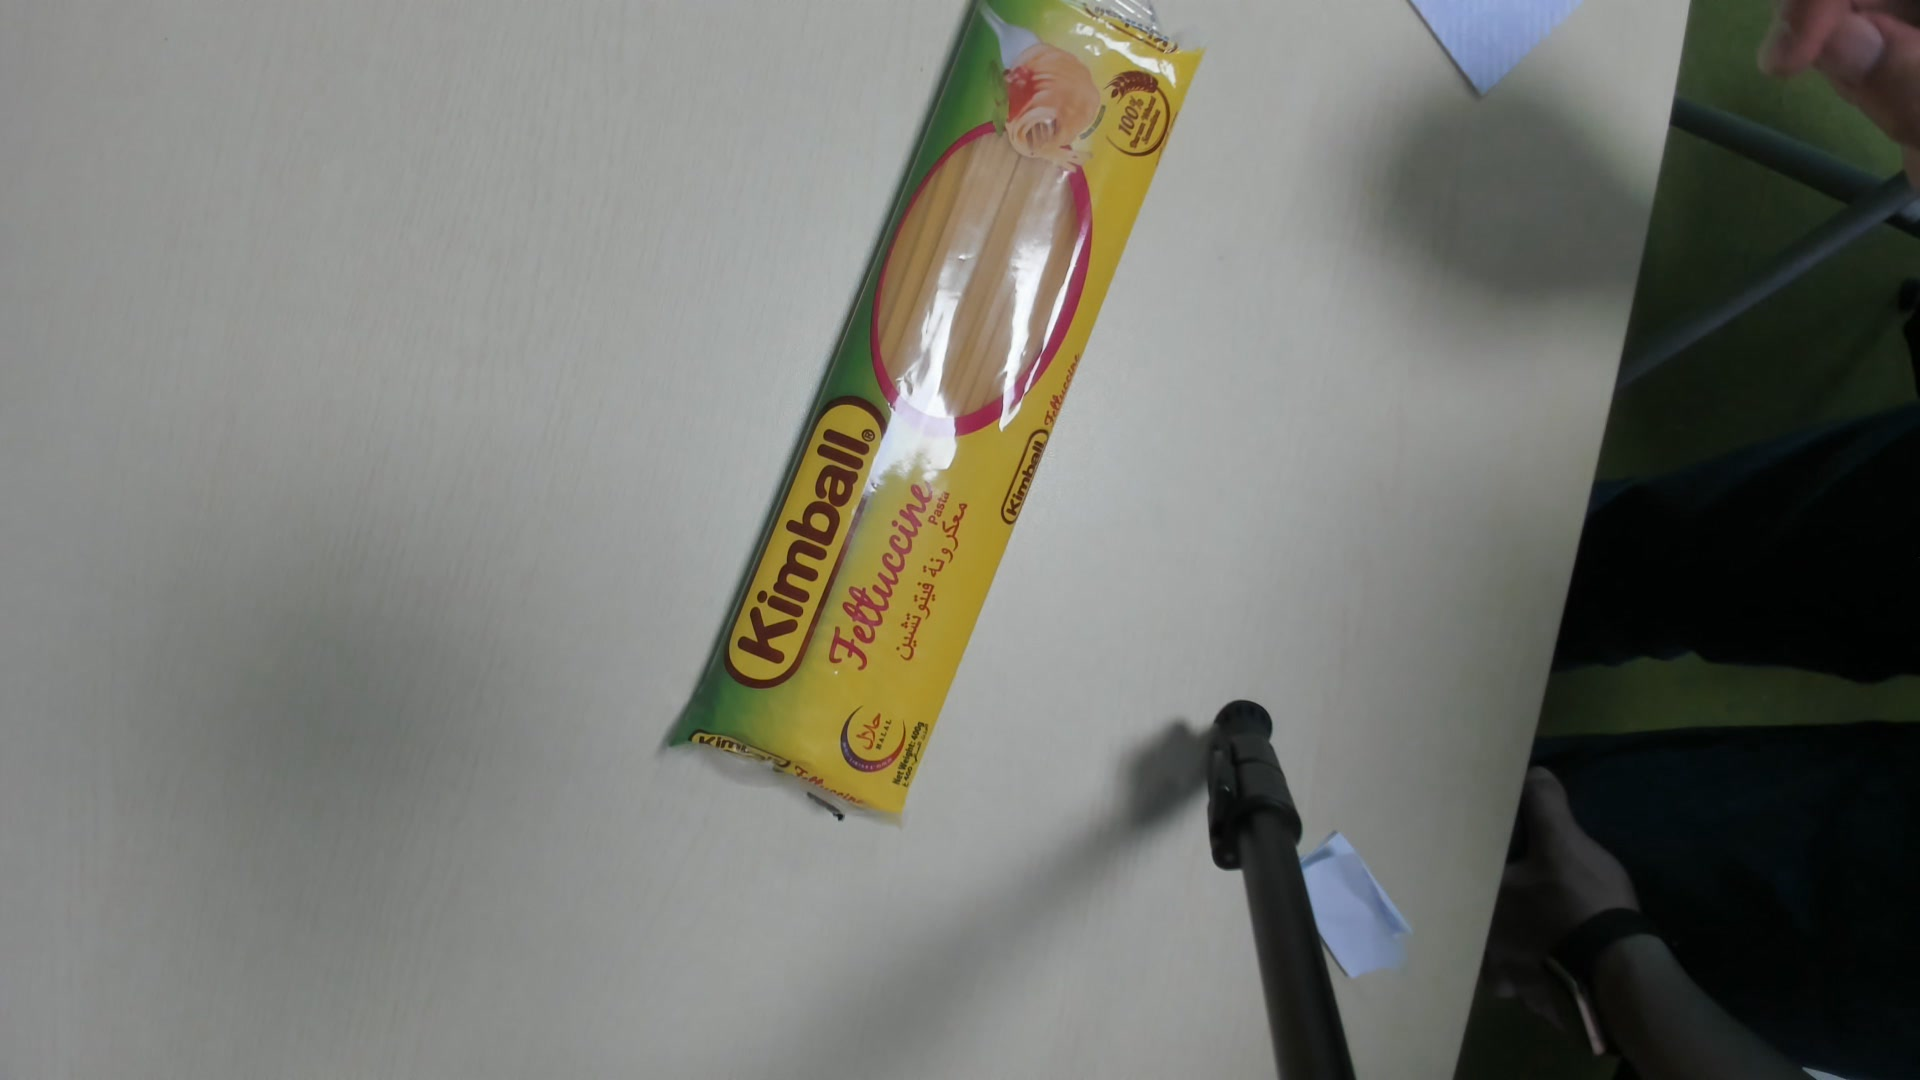Pasta_400-499g_Halal_NonHealthy: (655, 1, 1201, 835)
